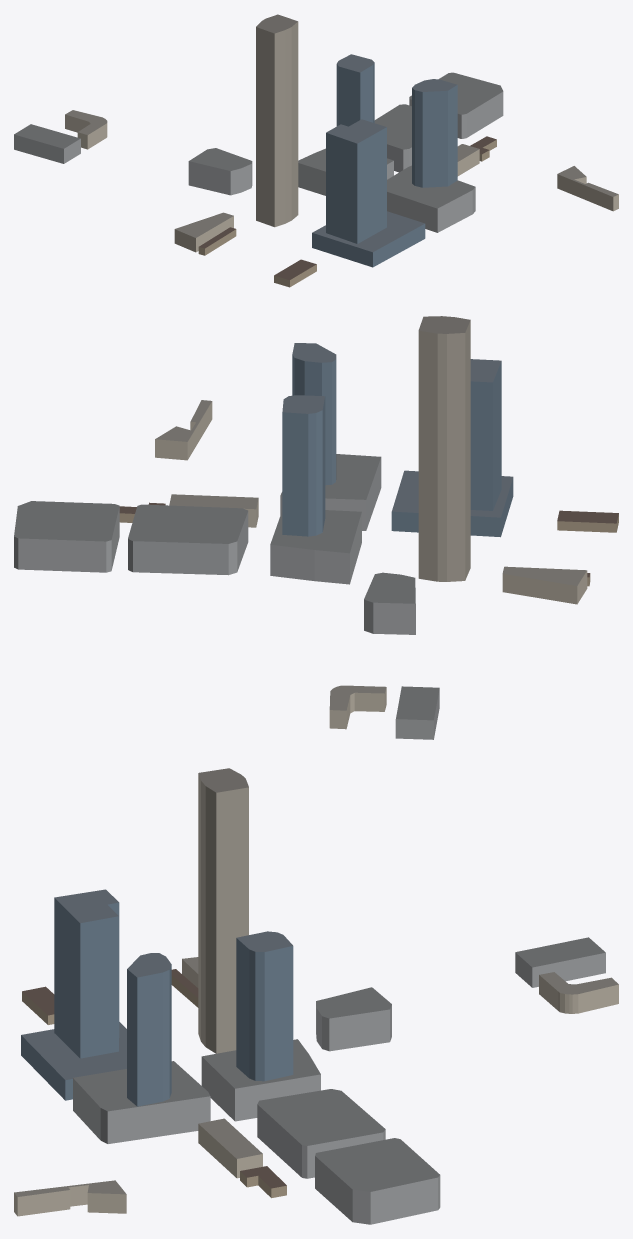
File: tile_3_7.glb
3 renders of one model, top to bottom at view 1: azimuth 30°, elevation 25°; view 2: azimuth 150°, elevation 25°; view 3: azimuth 270°, elevation 25°, orthographic. The views are drawn at different scales.
Visible parts, largest first — view 1: HP-w10628441, HP-w65254415, HP-w526195123, HP-w436817400, HP-w526195124, HP-w68576210, HP-w48872469, HP-w282881403, HP-w68576209, HP-w206164652, HP-w372180466, HP-w48872712 (+4 smaller); view 2: HP-w65254415, HP-w68576209, HP-w10628441, HP-w68576210, HP-w526195124, HP-w48872712, HP-w526195123, HP-w436817400, HP-w48872469, HP-w372180466, HP-w282881403, HP-w282881404 (+3 smaller); view 3: HP-w10628441, HP-w65254415, HP-w68576210, HP-w526195124, HP-w436817400, HP-w68576209, HP-w526195123, HP-w48872712, HP-w48872469, HP-w282881403, HP-w206164652, HP-w282881404 (+3 smaller).
Boxes of the visible parts, box(x1,y1,x2,y2) form: HP-w10628441: box(312, 119, 425, 267); HP-w65254415: box(256, 14, 298, 227); HP-w526195123: box(412, 79, 457, 187); HP-w436817400: box(387, 165, 475, 232); HP-w526195124: box(336, 54, 374, 126); HP-w68576210: box(409, 72, 503, 138); HP-w48872469: box(188, 148, 252, 195); HP-w282881403: box(14, 124, 80, 163); HP-w68576209: box(374, 104, 411, 172); HP-w206164652: box(557, 166, 618, 211); HP-w372180466: box(174, 212, 233, 252); HP-w48872712: box(298, 148, 393, 195); HP-w65254415: box(418, 316, 470, 581); HP-w68576209: box(128, 504, 248, 575); HP-w10628441: box(391, 359, 513, 537); HP-w68576210: box(14, 501, 119, 572); HP-w526195124: box(282, 395, 325, 536); HP-w48872712: box(270, 510, 361, 584); HP-w526195123: box(292, 343, 336, 485); HP-w436817400: box(280, 454, 381, 530); HP-w48872469: box(364, 572, 415, 634); HP-w372180466: box(502, 566, 587, 604); HP-w282881403: box(395, 686, 439, 739); HP-w282881404: box(329, 685, 386, 729); HP-w10628441: box(21, 889, 126, 1100); HP-w65254415: box(198, 768, 248, 1053); HP-w68576210: box(315, 1138, 440, 1224); HP-w526195124: box(236, 931, 293, 1081); HP-w436817400: box(73, 1061, 210, 1143); HP-w68576209: box(257, 1089, 385, 1178); HP-w526195123: box(127, 953, 171, 1106); HP-w48872712: box(201, 1039, 320, 1121); HP-w48872469: box(316, 987, 391, 1051); HP-w282881403: box(515, 937, 605, 987); HP-w206164652: box(14, 1180, 126, 1216); HP-w282881404: box(539, 972, 618, 1013).
Bounding box in the file's own units: 530 × 242 × 508.
